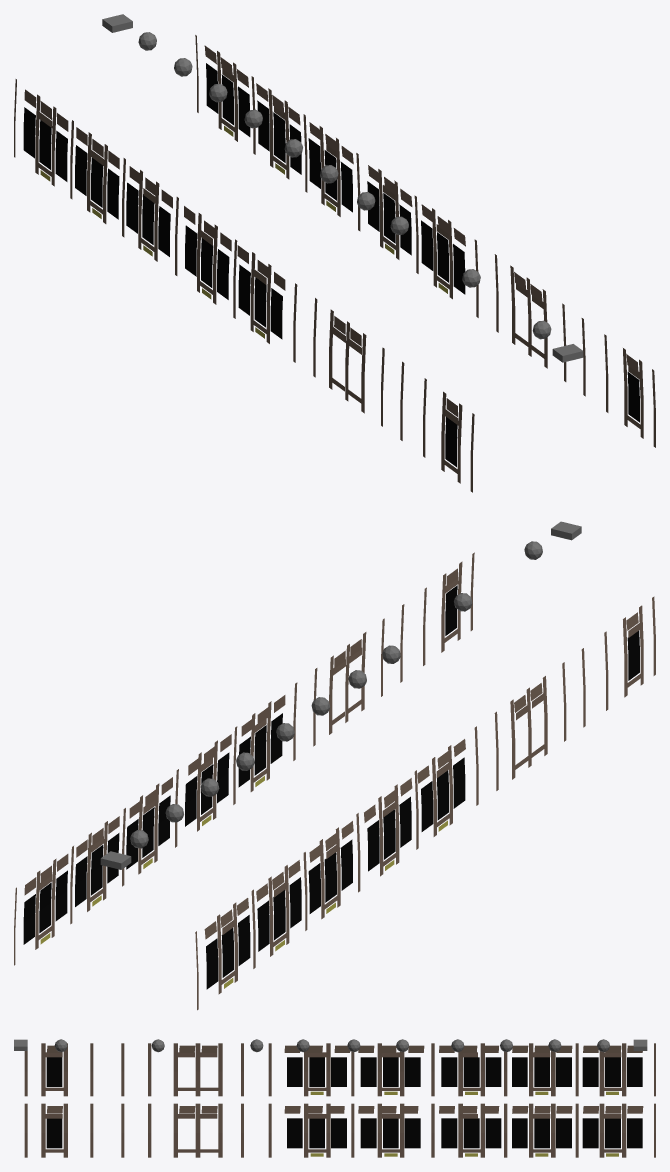
File: lnwr-57ft-non-cor-sides-brake.dae
The picture shows the model from 3 angles, top to bottom: view 1: azimuth 30°, elevation 25°; view 2: azimuth 150°, elevation 25°; view 3: azimuth 270°, elevation 25°; orthographic projection. The views are drawn at different scales.
Visible parts, largest first — view 1: no part large enough to name; view 2: no part large enough to name; view 3: Plane_1081, Plane_1072, Plane_1068, Plane_1062, Plane_1085, Plane_1082, Plane_1093, Plane_1102, Plane_1043, Plane_1037, Plane_1033, Plane_1024 (+65 smaller).
Boxes of the visible parts, x1,y1,x2,y2 form: Plane_1081: (441,1118,457,1148); Plane_1072: (360,1118,376,1148); Plane_1068: (404,1118,420,1148); Plane_1062: (582,1118,598,1148); Plane_1085: (485,1118,501,1148); Plane_1082: (463,1118,479,1148); Plane_1093: (46,1118,62,1148); Plane_1102: (46,1057,62,1086); Plane_1043: (582,1057,598,1086); Plane_1037: (404,1057,420,1086); Plane_1033: (360,1057,376,1086); Plane_1024: (441,1057,457,1086).
Bounding box in the file's own units: 2.21 × 9.77 × 1.49.
